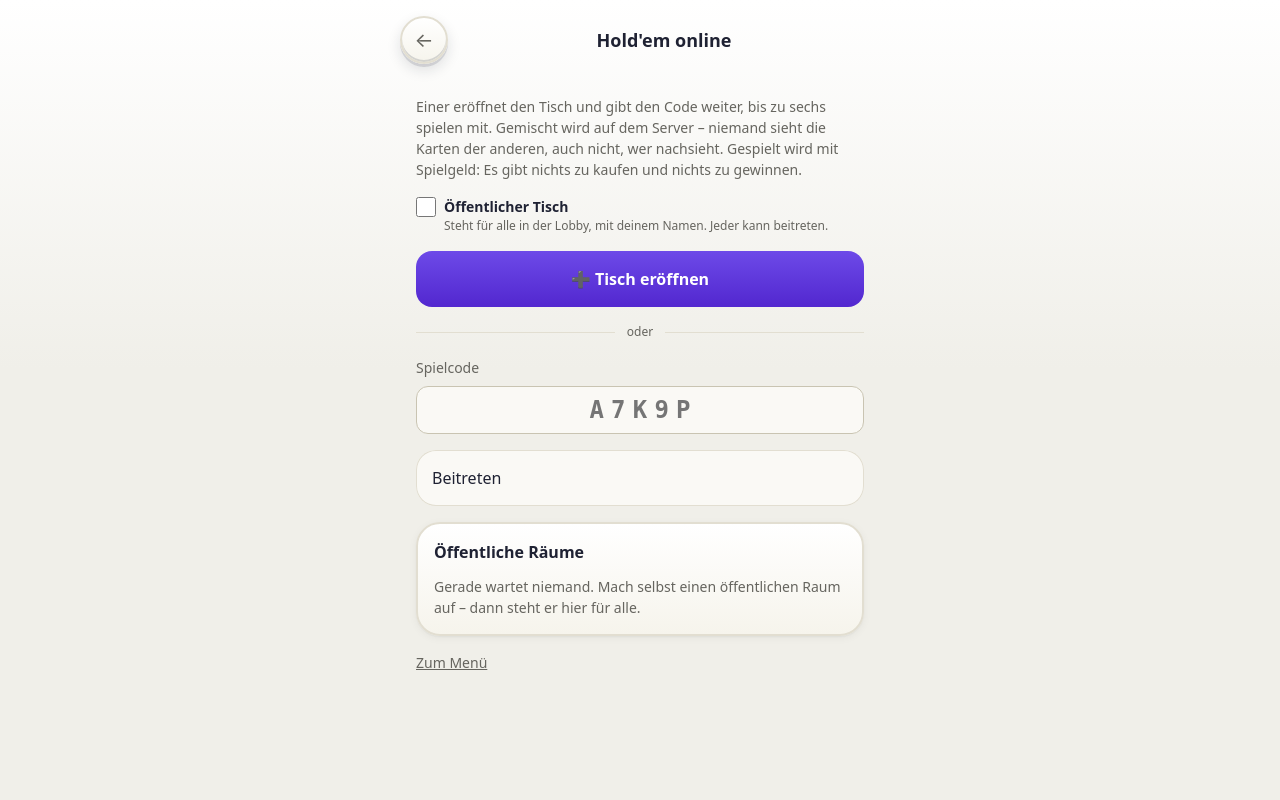
Test case: Texas Hold’em online › bietet gar nichts an, wenn ein anderer am Zug ist
Click the button "➕ Tisch eröffnen" at (640, 279), box [416, 251, 864, 307]
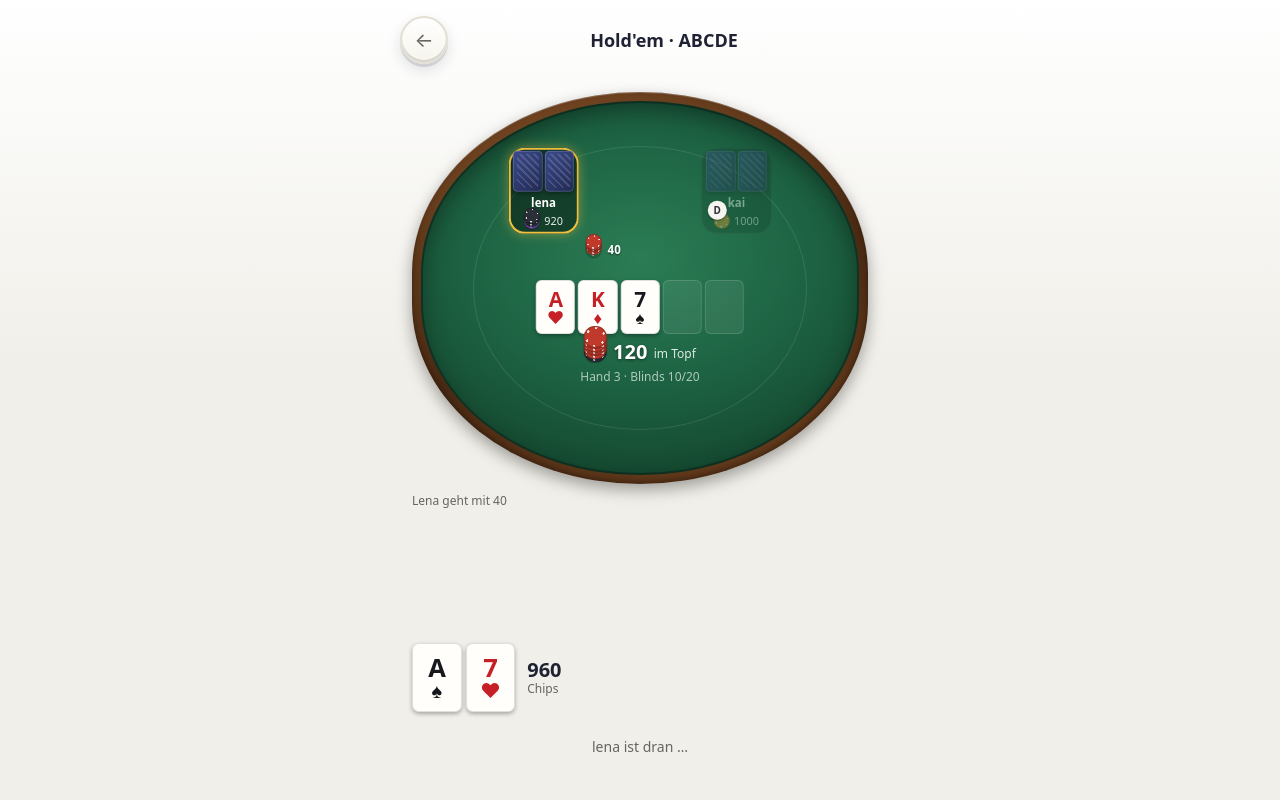
Expected: the element named "Tischmitte" is shown, [536, 280, 744, 385]
Expected: the text "lena ist dran …" is shown, [592, 736, 688, 756]
